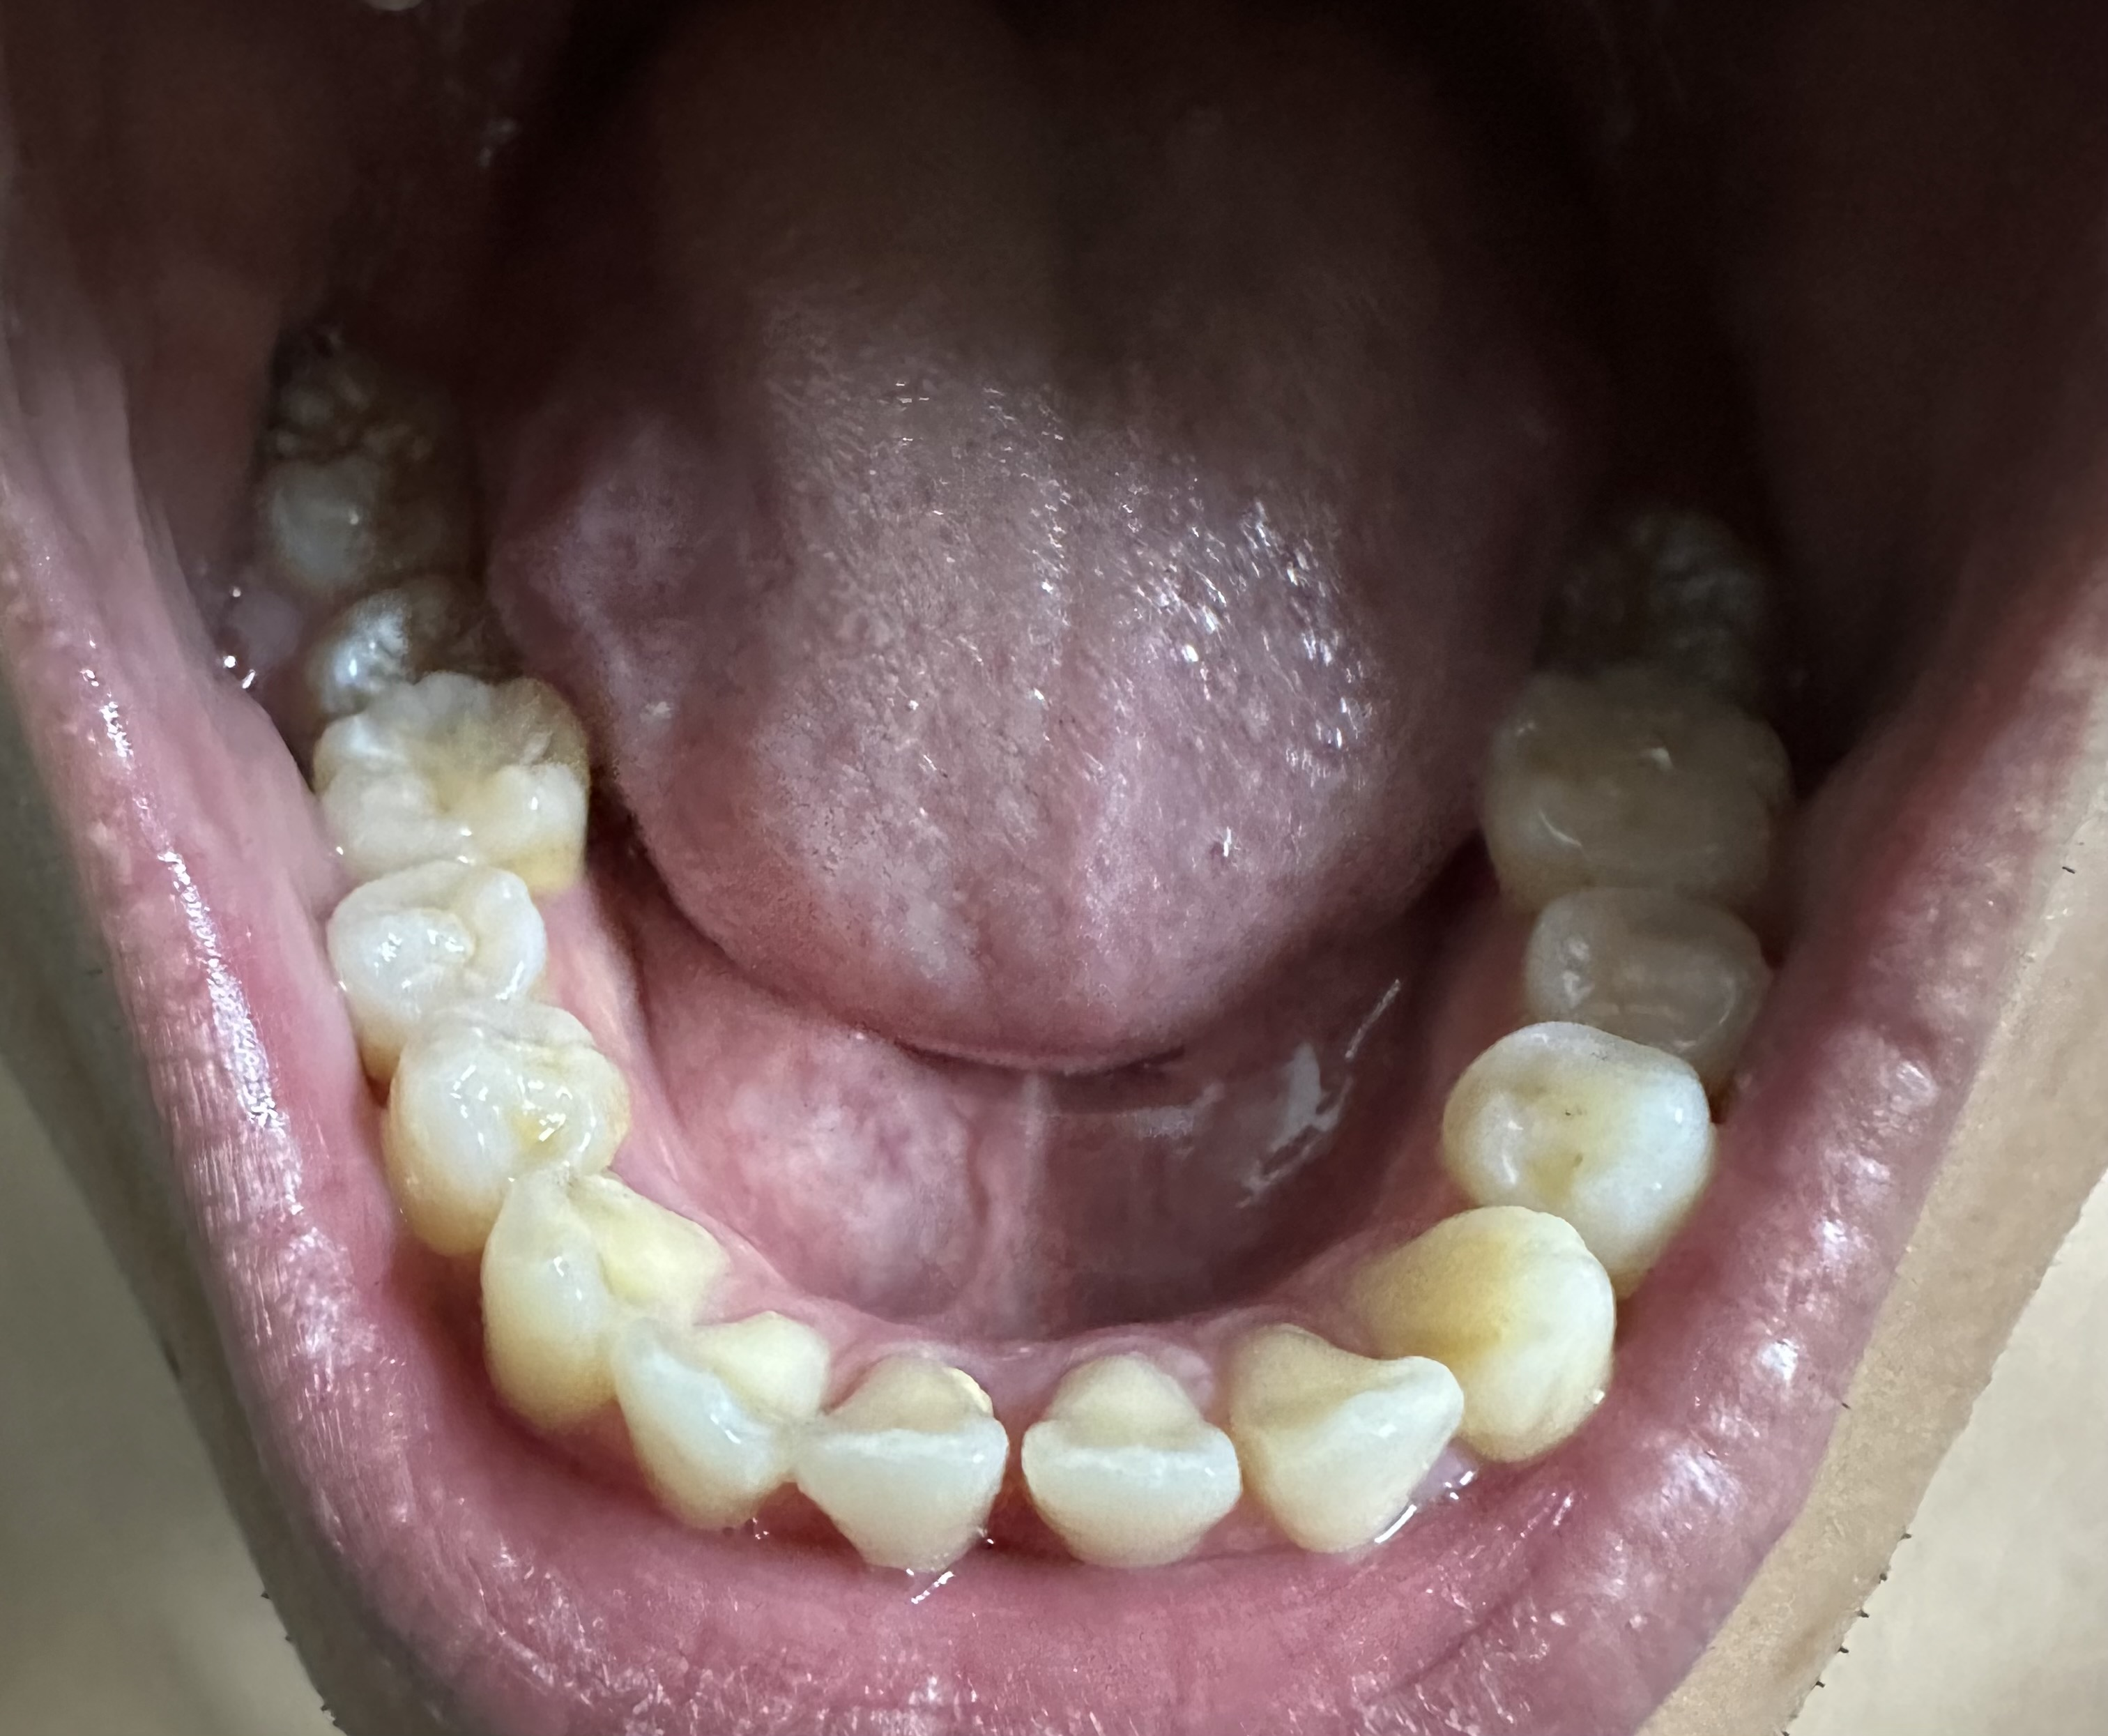teeth: (1481, 648, 1788, 890), (1339, 1205, 1621, 1452), (1444, 1021, 1719, 1256), (485, 1175, 730, 1429), (368, 1021, 641, 1247), (305, 683, 595, 862), (1229, 1323, 1457, 1549), (249, 352, 471, 571), (615, 1309, 830, 1533), (1028, 1347, 1236, 1570), (1527, 878, 1777, 1051), (798, 1363, 987, 1566), (1570, 503, 1772, 692), (317, 867, 534, 1011), (303, 580, 502, 702)
